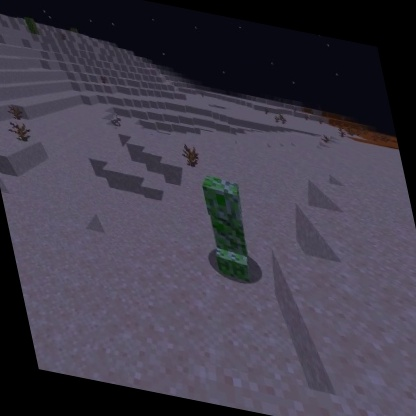creeper: (190, 170, 264, 289)
